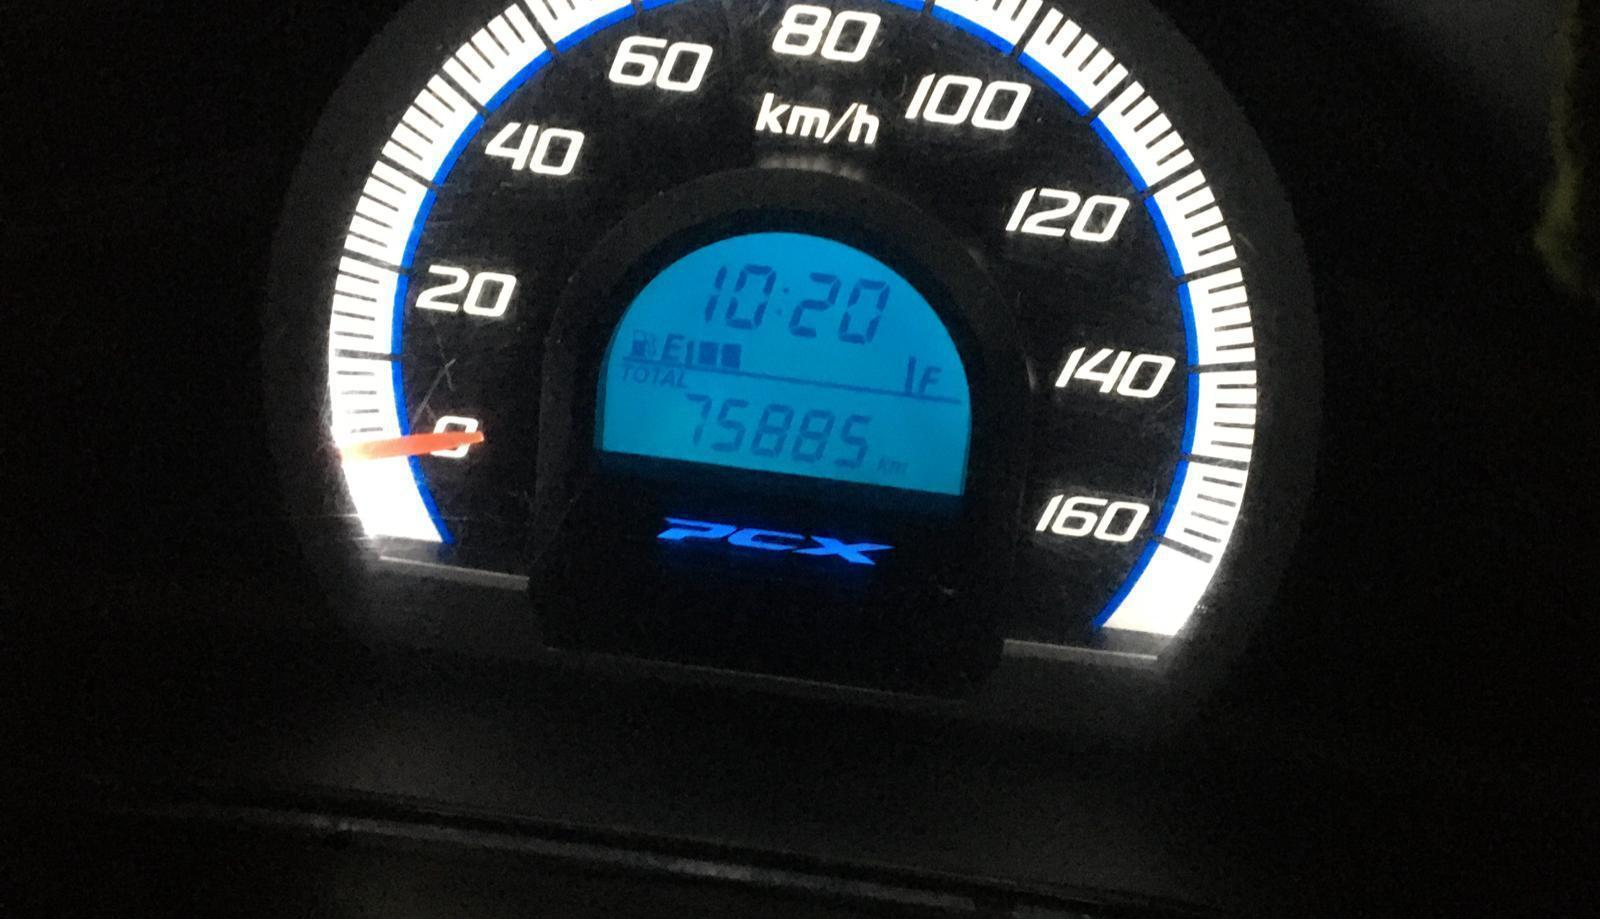0: (840, 274, 890, 345), (727, 262, 775, 332)
1: (702, 261, 727, 326)
2: (789, 269, 840, 342)
5: (836, 408, 873, 473), (713, 395, 748, 454)
7: (682, 391, 710, 446)
8: (754, 396, 792, 467), (795, 407, 838, 468)
X: (660, 331, 685, 361), (916, 363, 941, 391), (776, 283, 789, 318), (890, 459, 908, 476), (633, 365, 648, 384), (649, 365, 662, 386), (876, 456, 890, 474), (662, 368, 674, 388), (676, 368, 688, 388), (620, 362, 632, 381)
odometer: (591, 220, 981, 501)
